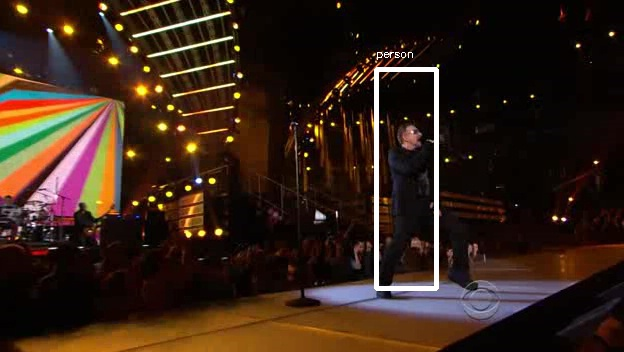person: (385, 127, 450, 243), (382, 127, 447, 243), (388, 127, 453, 243), (385, 124, 450, 240), (385, 130, 450, 246)
target_negative: (69, 76, 363, 326), (370, 129, 607, 210), (441, 106, 492, 271), (70, 268, 350, 288), (605, 312, 617, 341), (179, 247, 308, 248)
